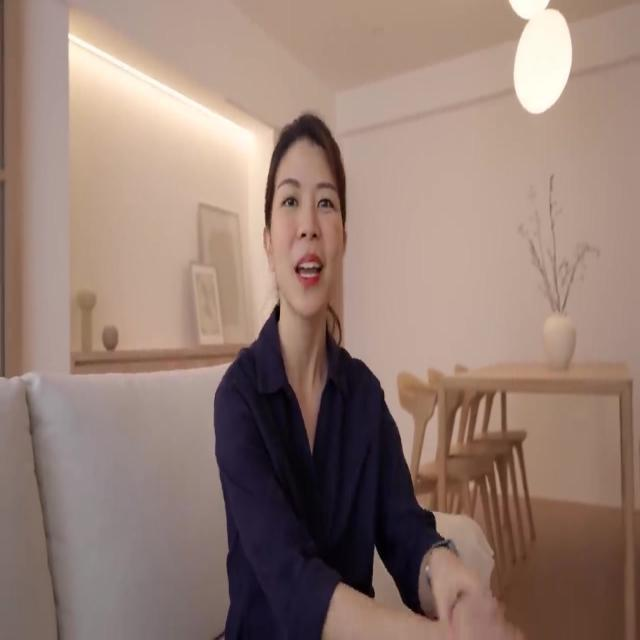obstacle: (0, 359, 498, 638), (426, 359, 636, 637)
person: (212, 111, 498, 639)
